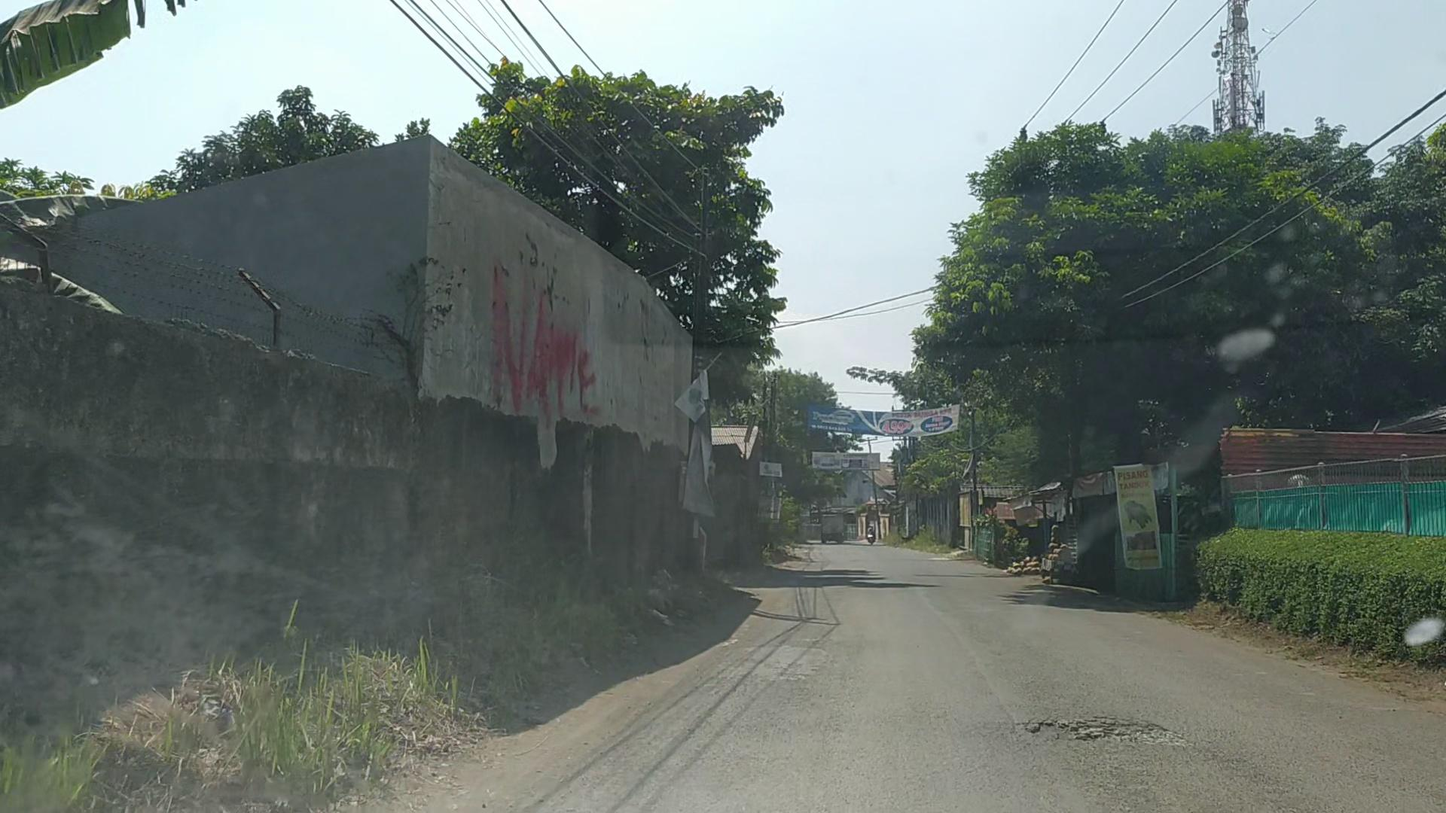pothole: (1028, 713, 1177, 747)
